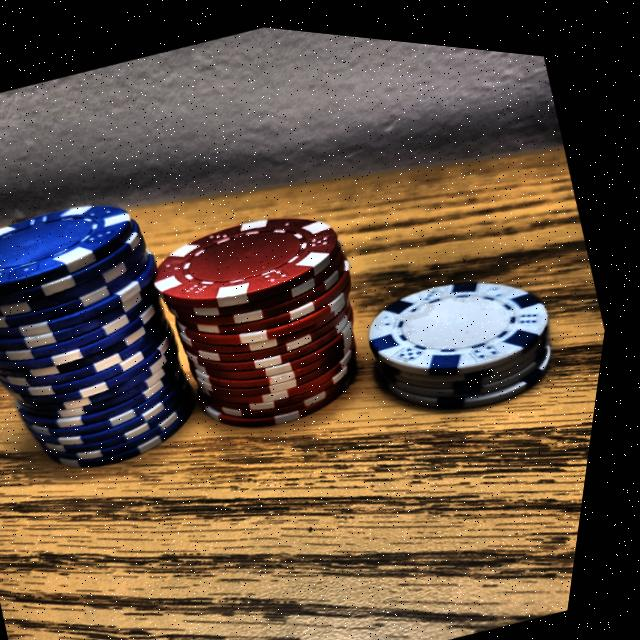Chip: (108, 143, 426, 476), (0, 153, 272, 532), (328, 203, 605, 457)
